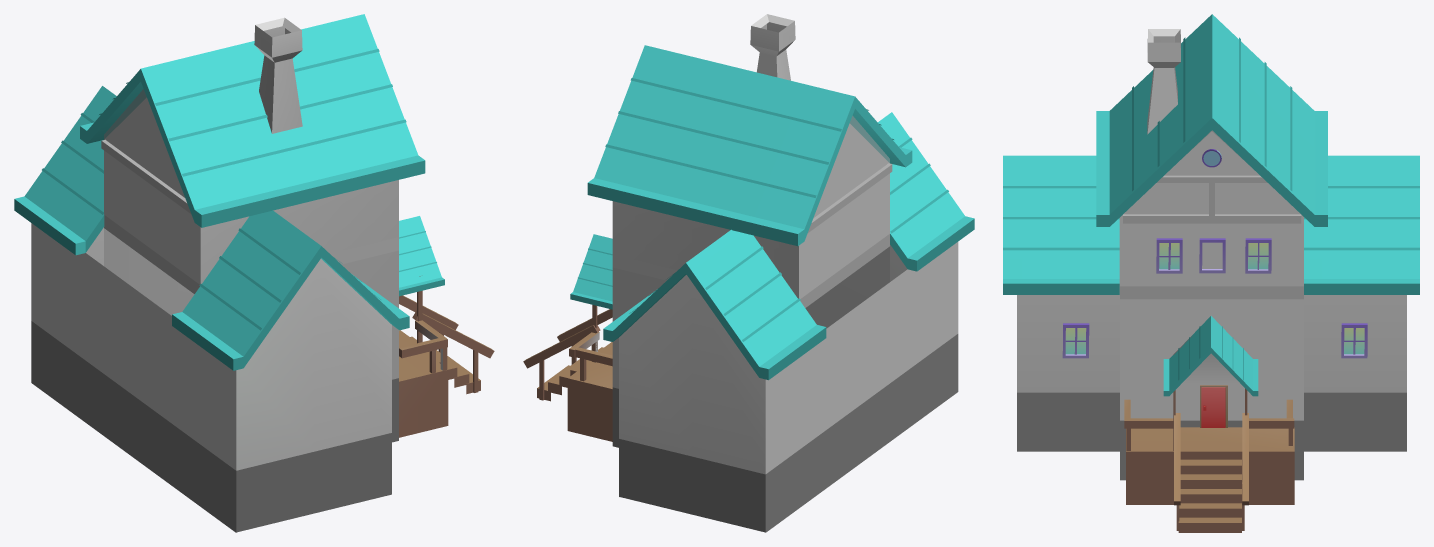
The model's file is exterior.fbx.
3 views of the same model, side by side, from view 1: azimuth 30°, elevation 25°; view 2: azimuth 150°, elevation 25°; view 3: azimuth 270°, elevation 25° (orthographic). The views are drawn at different scales.
Parts seen in each view (by area): view 1: Cube.623; view 2: Cube.623; view 3: Cube.623.
Part boxes in pixels (<box>): Cube.623: <box>14,14,494,532</box>; Cube.623: <box>523,14,974,532</box>; Cube.623: <box>1003,14,1419,532</box>.
Bounding box in the file's own units: 27.49 × 31.43 × 29.72.
